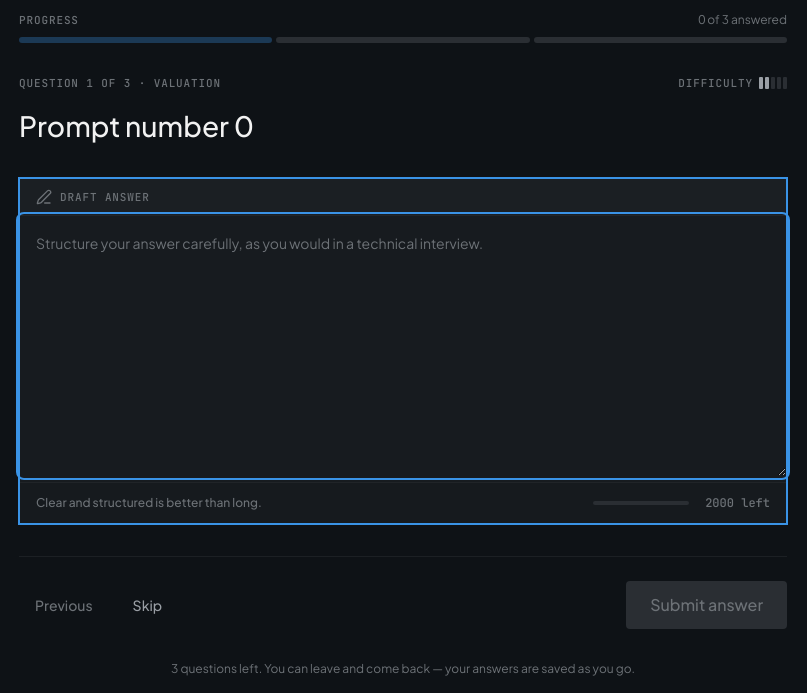
DiagnosticRunner › lets a student skip and come back through the progress rail
The image size is (807, 693).
Click the button "Skip" at (147, 604), box [117,584,178,624]
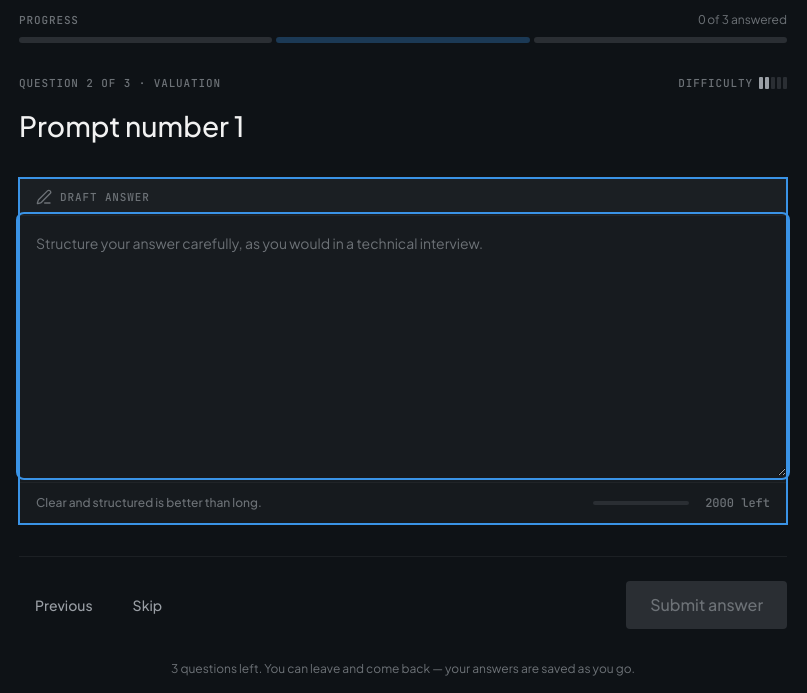
Expected: the heading "Prompt number 1" is shown, [19,108,244,143]
Click the list item named "Question 1, Valuation, not answered" at (146, 40), box [19,36,272,42]
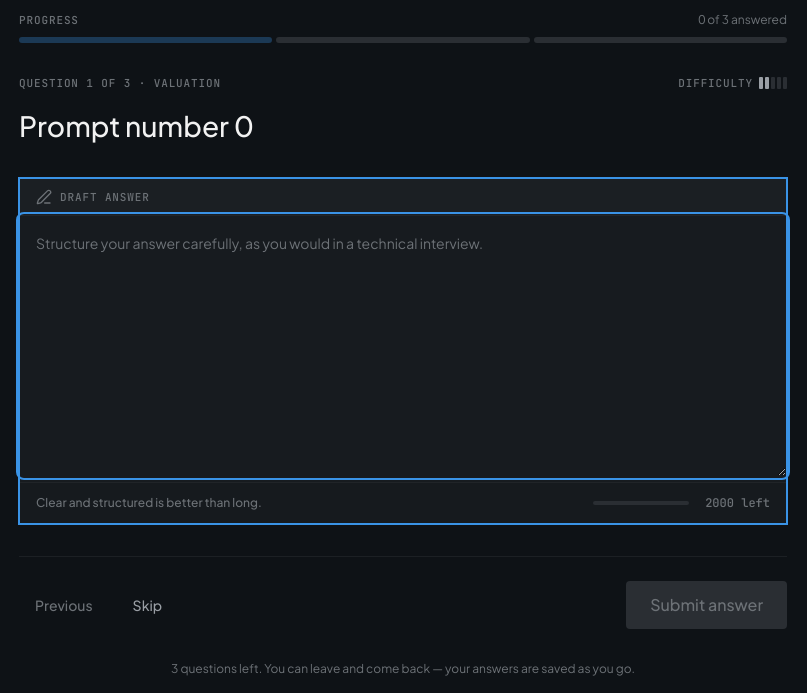
Expected: the heading "Prompt number 0" is shown, [19,108,254,143]
